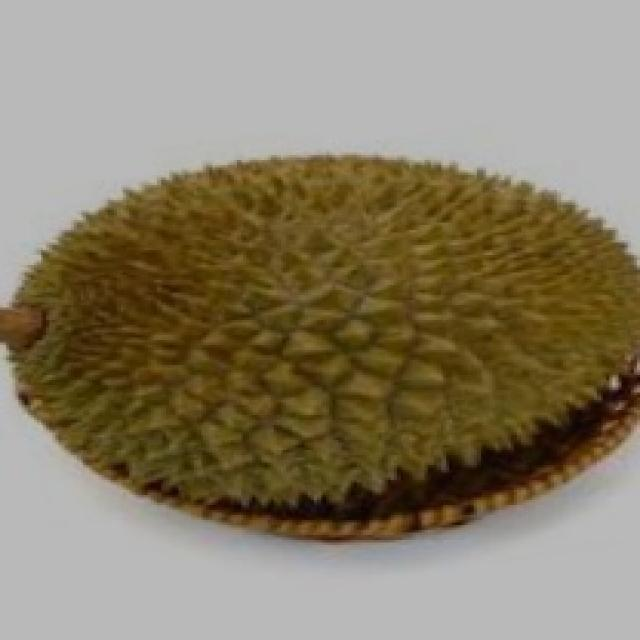fruit: (271, 132, 640, 560), (0, 148, 366, 570)
